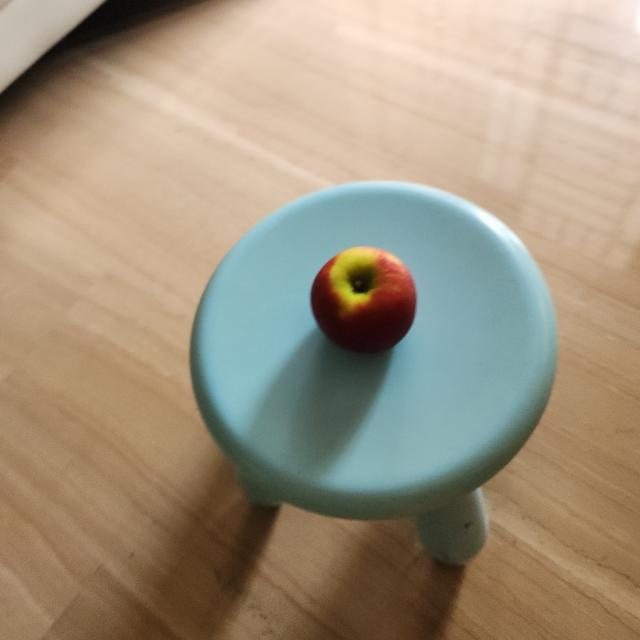apple: (306, 242, 424, 368)
